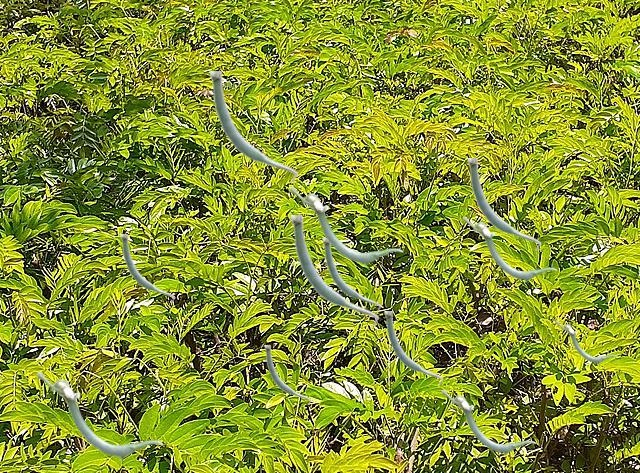french_bean: (36, 371, 162, 459), (209, 71, 297, 182), (290, 215, 378, 326), (289, 186, 402, 265), (467, 158, 540, 250), (462, 216, 556, 281), (441, 389, 535, 454), (322, 238, 380, 311), (384, 311, 442, 384), (120, 234, 174, 302), (264, 345, 310, 404), (555, 320, 617, 363)
